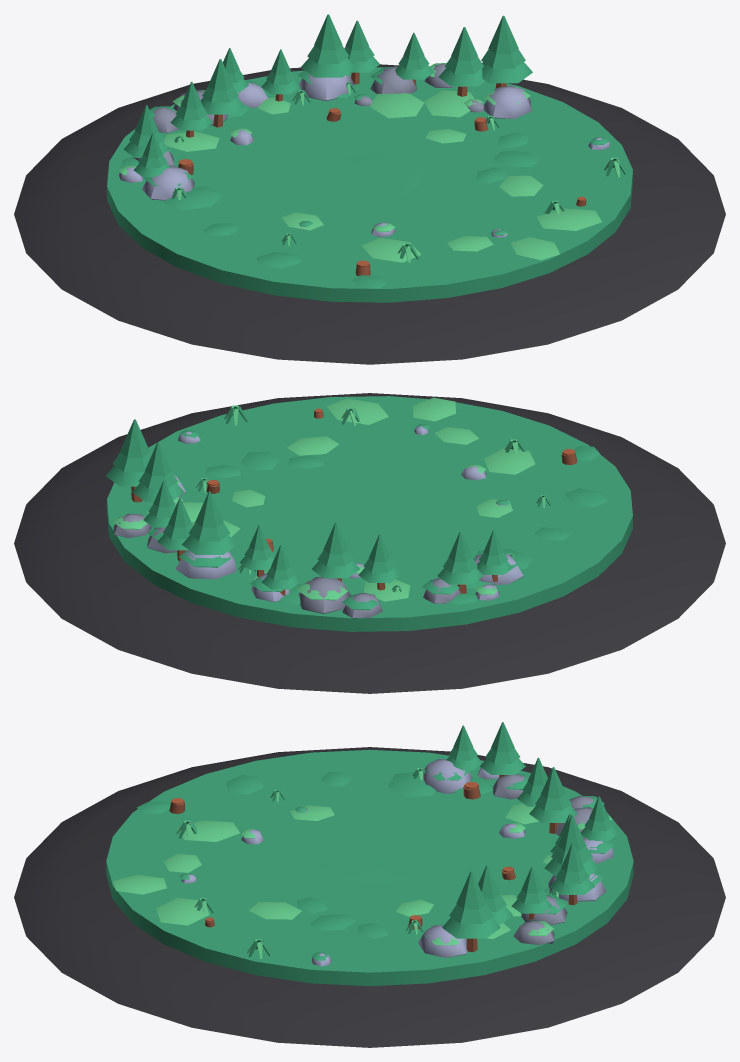
Rendered from grove_bear.glb.
3 renders of one model, top to bottom at view 1: azimuth 30°, elevation 25°; view 2: azimuth 150°, elevation 25°; view 3: azimuth 270°, elevation 25°, orthographic.
Visible parts, largest first — view 1: GroveBearGround; view 2: GroveBearGround; view 3: GroveBearGround.
Boxes of the visible parts, x1,y1,x2,y2 form: GroveBearGround: (14,14,725,364); GroveBearGround: (14,393,725,693); GroveBearGround: (14,722,725,1047).
Size of the model in its own units: 16.2 by 2.91 by 16.2.
Materials: 1 (1 with a texture image).
